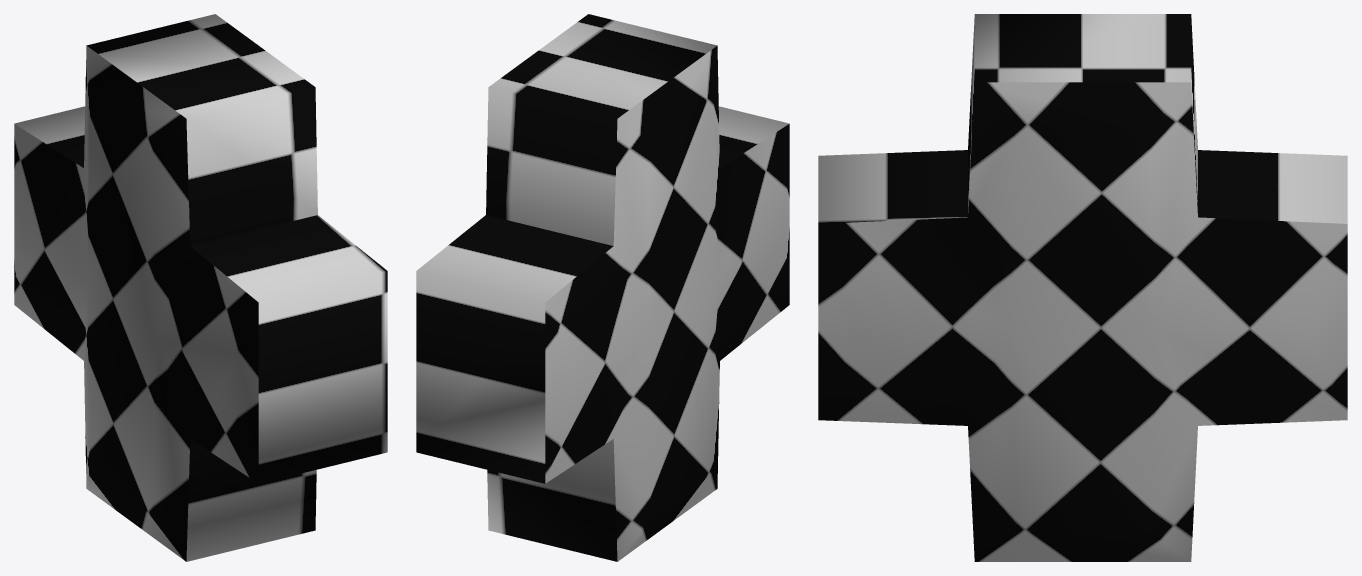
Rendered from aegis-repair-cross.obj.
The picture shows the model from 3 angles, left to right: view 1: azimuth 30°, elevation 25°; view 2: azimuth 150°, elevation 25°; view 3: azimuth 270°, elevation 25°; orthographic projection. The views are drawn at different scales.
Parts seen in each view (by area): view 1: aegis_rapairpod; view 2: aegis_rapairpod; view 3: aegis_rapairpod.
Part boxes in pixels (left/top/right/bottom): aegis_rapairpod: left=14, top=14, right=387, bottom=561; aegis_rapairpod: left=416, top=14, right=789, bottom=561; aegis_rapairpod: left=818, top=14, right=1347, bottom=561.
Size of the model in its own units: 9.35 by 24.91 by 24.91.
1 material, 1 textured.
